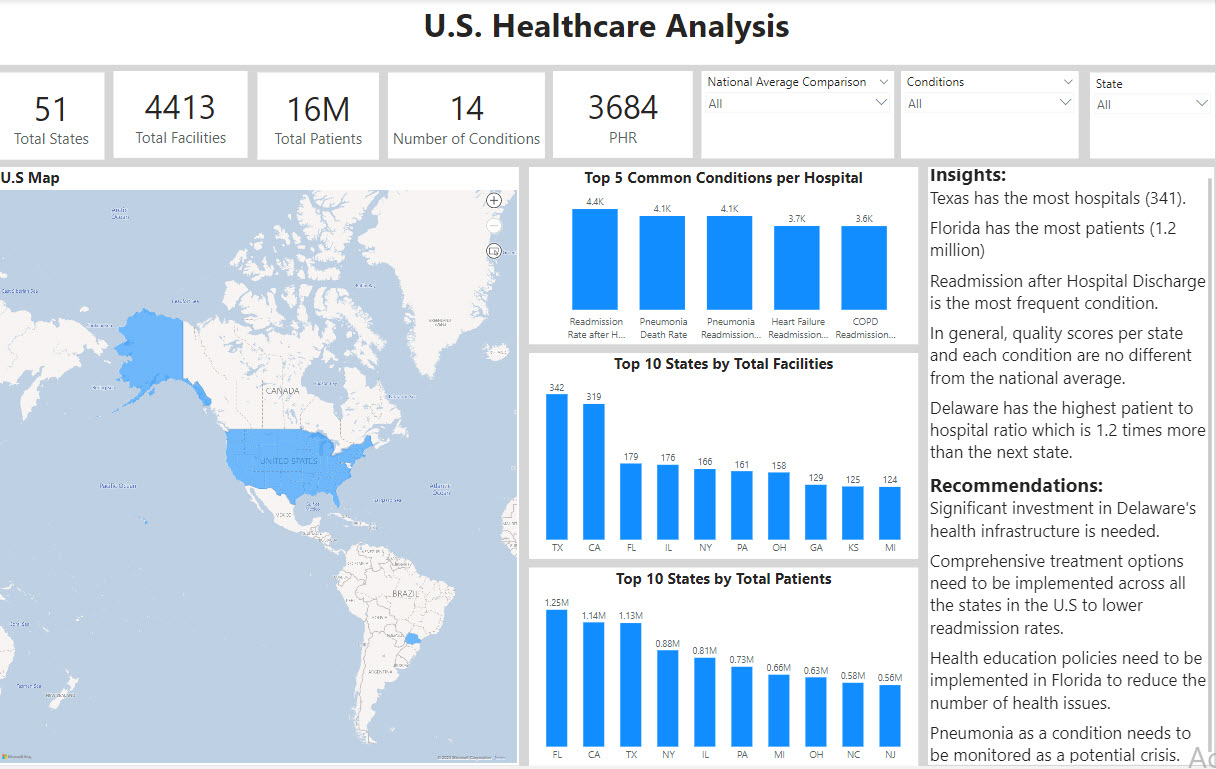

What the dashboard file says about the page in this screenshot:
{"tool":"powerbi","page":{"name":"Page 1","canvas":[2700,1700],"ordinal":0},"visuals":[{"type":"textbox","box":[0,0,2699,145.9],"z":0},{"type":"card","fields":{"Values":["_Measures.Number of States"]},"box":[0,162.5,236.2,193],"z":1000},{"type":"card","fields":{"Values":["_Measures.Number of Conditions"]},"box":[863.5,162.5,347.9,190.5],"z":2000},{"type":"card","fields":{"Values":["_Measures.Total Hospitals"]},"box":[256.8,160.5,297.6,192.6],"z":3000},{"type":"card","fields":{"Values":["_Measures.Total Patients"]},"box":[576.5,162.5,269.2,193],"z":4000},{"type":"filledMap","title":"U.S Map","fields":{"Category":["Readmissions_and_Deaths_-_Hospital.State","Readmissions_and_Deaths_-_Hospital.City","Readmissions_and_Deaths_-_Hospital.County Name"]},"box":[0,372.5,1155,1327.5],"z":5000},{"type":"clusteredColumnChart","title":"Top 5 Common Conditions per Hospital","fields":{"Category":["Readmissions_and_Deaths_-_Hospital.Measure Name"],"Y":["_Measures.Frequency of Measures"]},"box":[1176.7,373.3,863.3,393.3],"z":6000},{"type":"slicer","fields":{"Values":["Readmissions_and_Deaths_-_Hospital.Compared to National"]},"box":[1559.7,160.3,427.5,193.7],"z":7000},{"type":"slicer","fields":{"Values":["Readmissions_and_Deaths_-_Hospital.State"]},"box":[2421.4,163.7,277.2,190.4],"z":8000},{"type":"slicer","fields":{"Values":["Readmissions_and_Deaths_-_Hospital.Measure Name"]},"box":[2003.9,160.3,394.1,193.7],"z":9000},{"type":"textbox","box":[2064,374.1,634.6,1325.9],"z":10000},{"type":"clusteredColumnChart","title":"Top 10 States by Total Facilities","fields":{"Category":["Readmissions_and_Deaths_-_Hospital.State"],"Y":["_Measures.Total Hospitals"]},"box":[1176.7,786.7,863.3,456.7],"z":11000},{"type":"clusteredColumnChart","title":"Top 10 States by Total Patients","fields":{"Category":["Readmissions_and_Deaths_-_Hospital.State"],"Y":["_Measures.Total Patients"]},"box":[1176.7,1260,863.3,440],"z":12000},{"type":"card","fields":{"Values":["_Measures.Patient Hospital Ratio"]},"box":[1230,160,310,192.5],"z":13000}]}

Visuals, with their boxes in screenshot pixels (x1, y1, x2, y2), scaled from the page's 2700x1700 canvas onto the 1216x769 screenshot:
textbox: 0,0,1215,66
card - _Measures.Number of States: 0,74,106,161
card - _Measures.Number of Conditions: 389,74,546,160
card - _Measures.Total Hospitals: 116,73,250,160
card - _Measures.Total Patients: 260,74,381,161
"U.S Map" filledMap: 0,169,520,768
"Top 5 Common Conditions per Hospital" clusteredColumnChart: 530,169,919,347
slicer - Readmissions_and_Deaths_-_Hospital.Compared to National: 702,73,895,160
slicer - Readmissions_and_Deaths_-_Hospital.State: 1091,74,1215,160
slicer - Readmissions_and_Deaths_-_Hospital.Measure Name: 902,73,1080,160
textbox: 930,169,1215,768
"Top 10 States by Total Facilities" clusteredColumnChart: 530,356,919,562
"Top 10 States by Total Patients" clusteredColumnChart: 530,570,919,768
card - _Measures.Patient Hospital Ratio: 554,72,694,159
